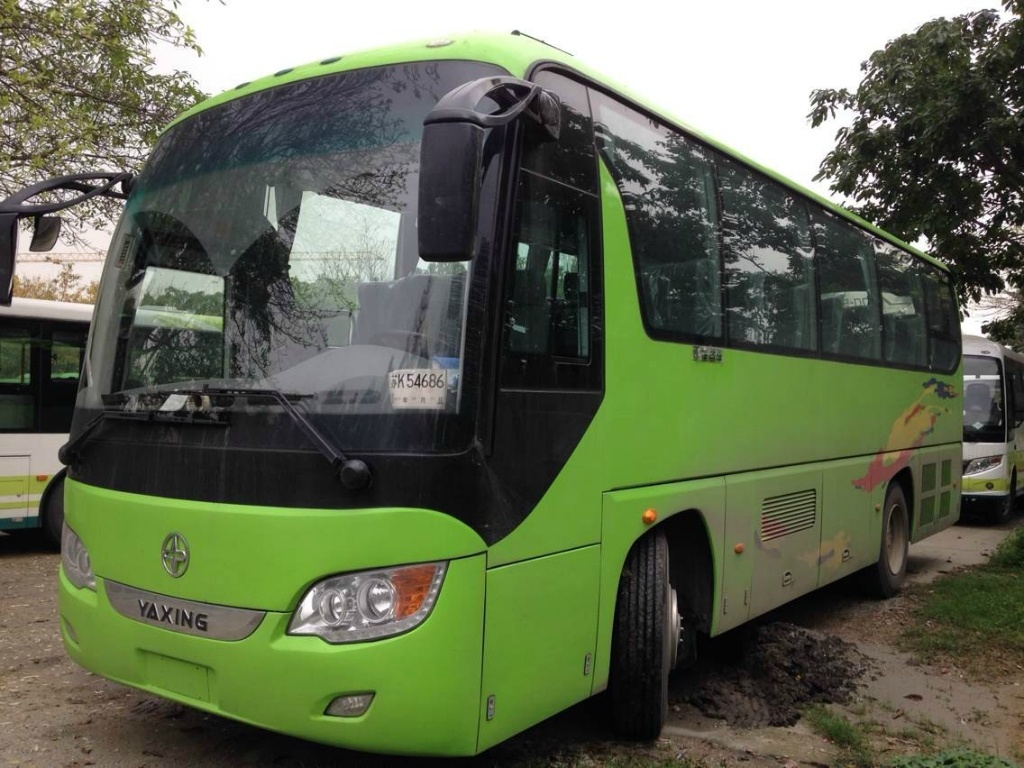bus: (66, 39, 988, 745)
